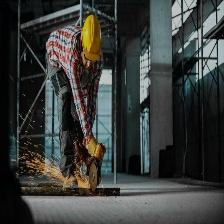Person: (45, 10, 107, 190)
helmet: (80, 14, 102, 60)
no-vest: (48, 24, 78, 74)
